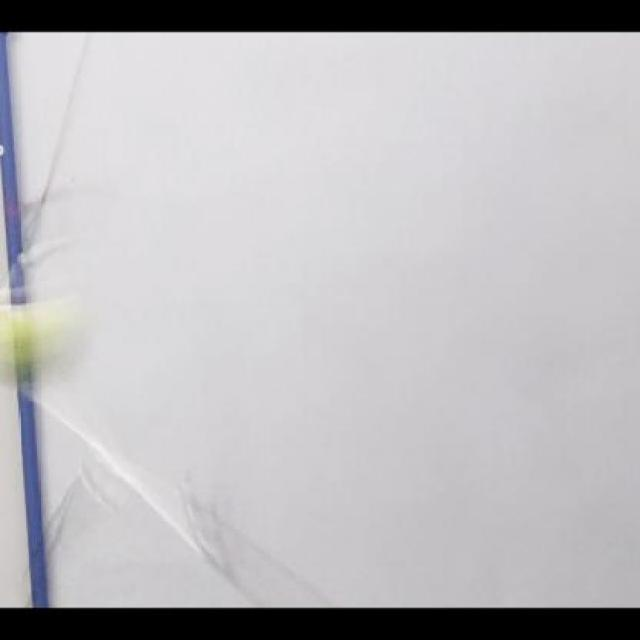baseball: (0, 294, 109, 388)
